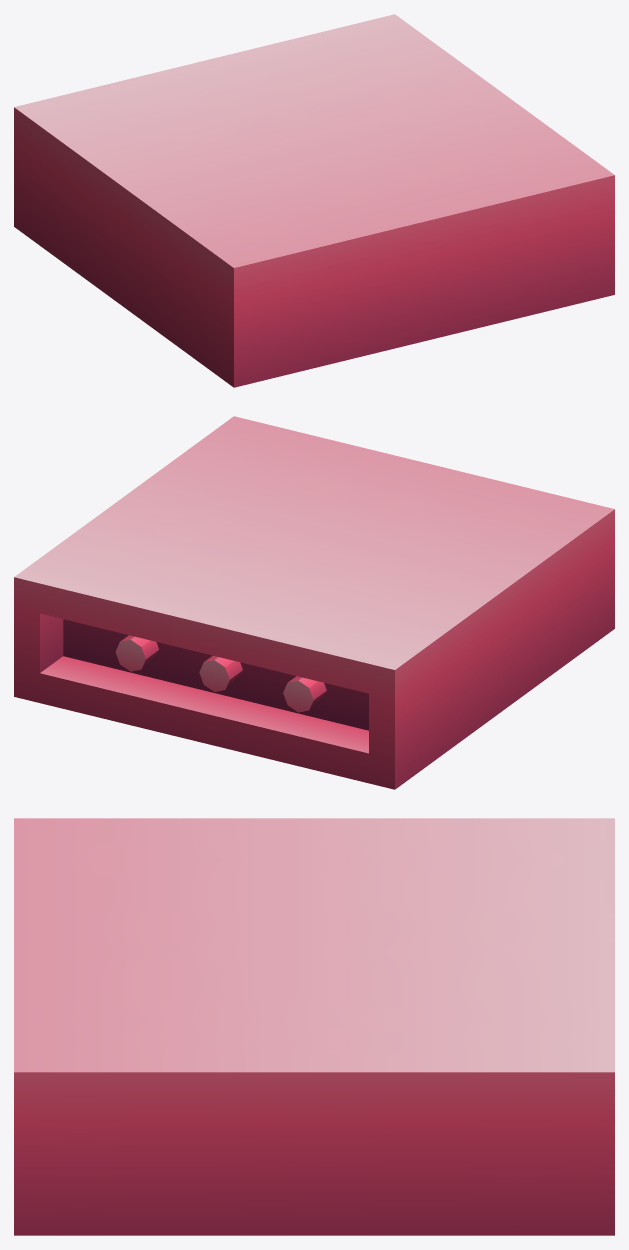
The model's file is PlatformMover.fbx.
The picture shows the model from 3 angles, top to bottom: view 1: azimuth 30°, elevation 25°; view 2: azimuth 150°, elevation 25°; view 3: azimuth 270°, elevation 25°; orthographic projection. The views are drawn at different scales.
Parts seen in each view (by area): view 1: PlatformMover; view 2: PlatformMover; view 3: PlatformMover.
Part boxes in pixels (box(x1,y1,x2,y2)): PlatformMover: box(14, 14, 614, 387); PlatformMover: box(14, 416, 614, 789); PlatformMover: box(14, 818, 614, 1235).
Bounding box in the file's own units: 1 × 0.3 × 1.
Materials: 1 (1 with a texture image).
